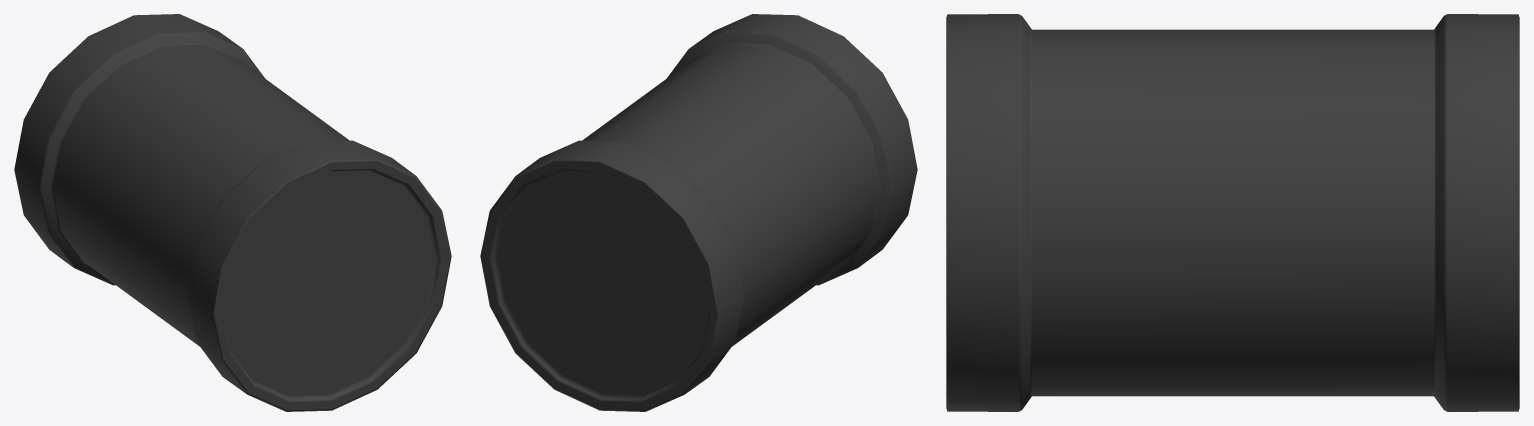
Rendered from colony_Section.glb.
3 renders of one model, left to right at view 1: azimuth 30°, elevation 25°; view 2: azimuth 150°, elevation 25°; view 3: azimuth 270°, elevation 25°, orthographic. The views are drawn at different scales.
Visible parts, largest first — view 1: Section; view 2: Section; view 3: Section.
Part boxes in pixels (bbox=[...]): Section: bbox=[14, 14, 451, 411]; Section: bbox=[480, 14, 917, 411]; Section: bbox=[946, 14, 1519, 411].
Bounding box in the file's own units: 276 × 276 × 395.
1 material, 1 textured.
